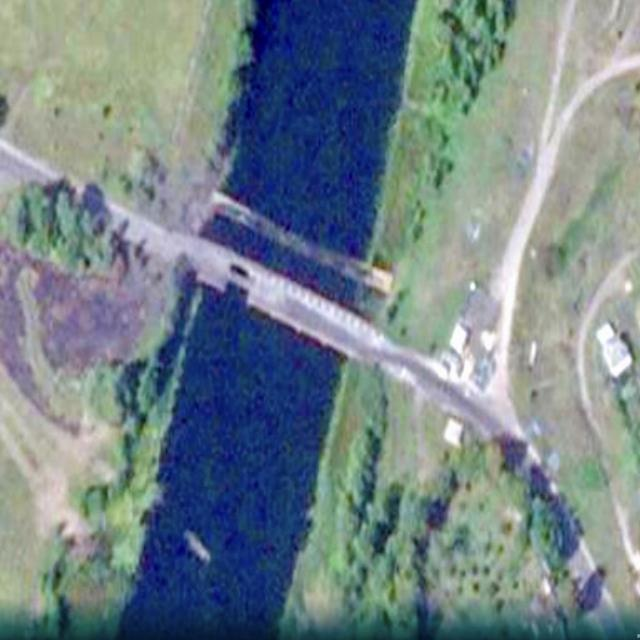fortification: (198, 236, 353, 358)
